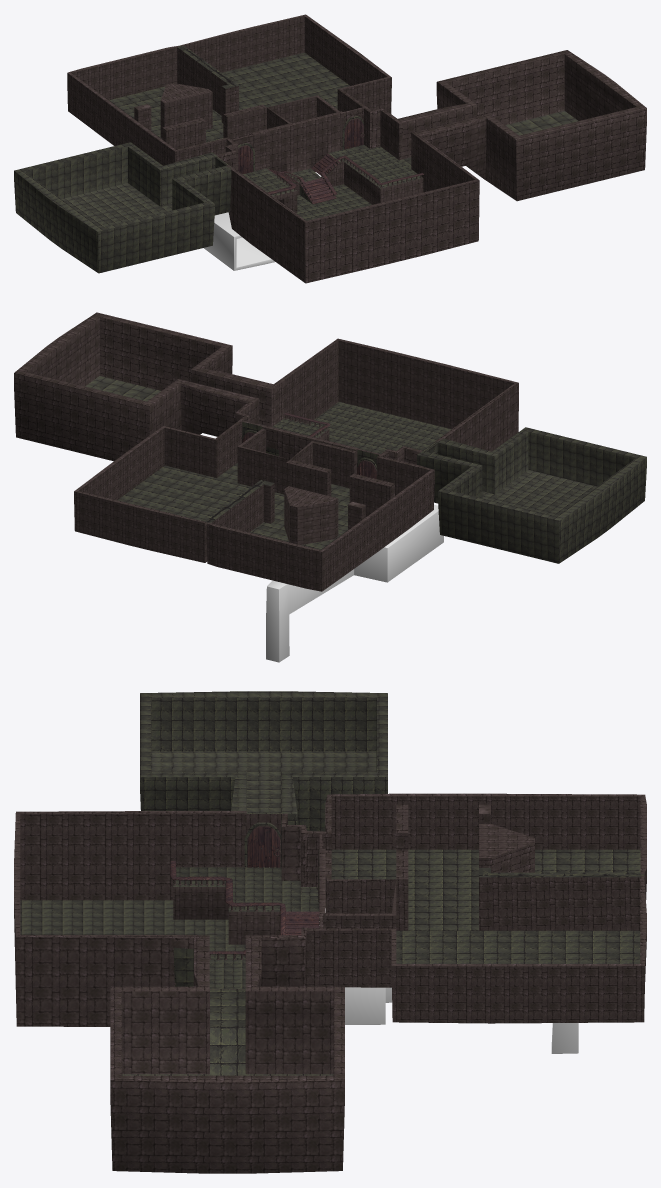
Rendered from sato.fbx.
3 views of the same model, one above another, from view 1: azimuth 30°, elevation 25°; view 2: azimuth 150°, elevation 25°; view 3: azimuth 270°, elevation 25° (orthographic). The views are drawn at different scales.
Visible parts, largest first — view 1: Plane, Plane.004, Plane.001, Plane.003, Plane.002, NurbsPath, Plane.006, Door1, Door1.001, Circle.001; view 2: Plane.004, Plane.001, Plane, Plane.003, Plane.002; view 3: Plane.004, Plane, Plane.001, Plane.003, Plane.002, Door1.002, NurbsPath, Plane.005.
Part boxes in pixels (x1,y1,x2,y2): Plane: [215, 107, 479, 283]; Plane.004: [67, 14, 391, 178]; Plane.001: [394, 50, 646, 201]; Plane.003: [14, 142, 233, 273]; Plane.002: [204, 212, 274, 270]; NurbsPath: [268, 155, 423, 200]; Plane.006: [300, 177, 336, 204]; Door1: [344, 118, 364, 149]; Door1.001: [238, 145, 253, 173]; Circle.001: [270, 158, 421, 201]; Plane.004: [74, 416, 434, 591]; Plane.001: [14, 312, 274, 461]; Plane: [235, 338, 518, 473]; Plane.003: [417, 427, 646, 563]; Plane.002: [266, 504, 443, 662]; Plane.004: [301, 793, 646, 1023]; Plane: [14, 811, 325, 1026]; Plane.001: [110, 935, 344, 1173]; Plane.003: [140, 691, 387, 867]; Plane.002: [319, 911, 578, 1053]; Door1.002: [247, 825, 281, 867]; NurbsPath: [170, 861, 285, 984]; Plane.005: [286, 911, 319, 935].
Size of the model in its own units: 28.95 by 19.79 by 7.05.
Materials: 3 (3 with a texture image).
